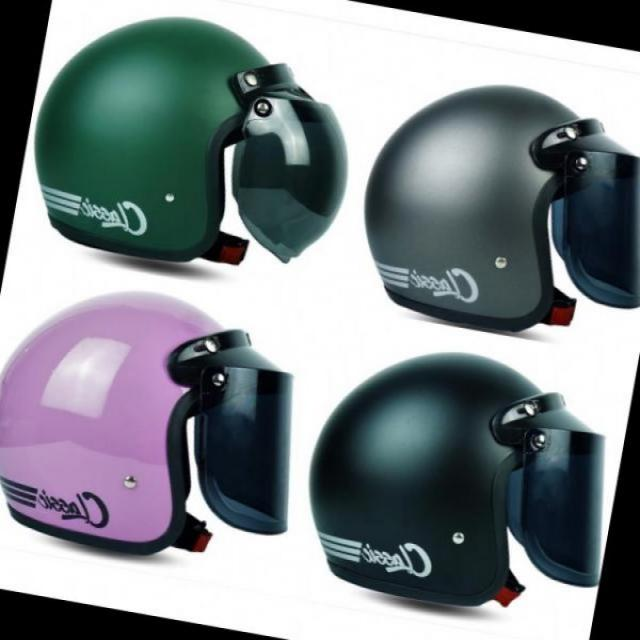Helmet: (361, 50, 640, 350), (303, 349, 625, 608), (34, 18, 345, 276), (4, 279, 292, 552)
